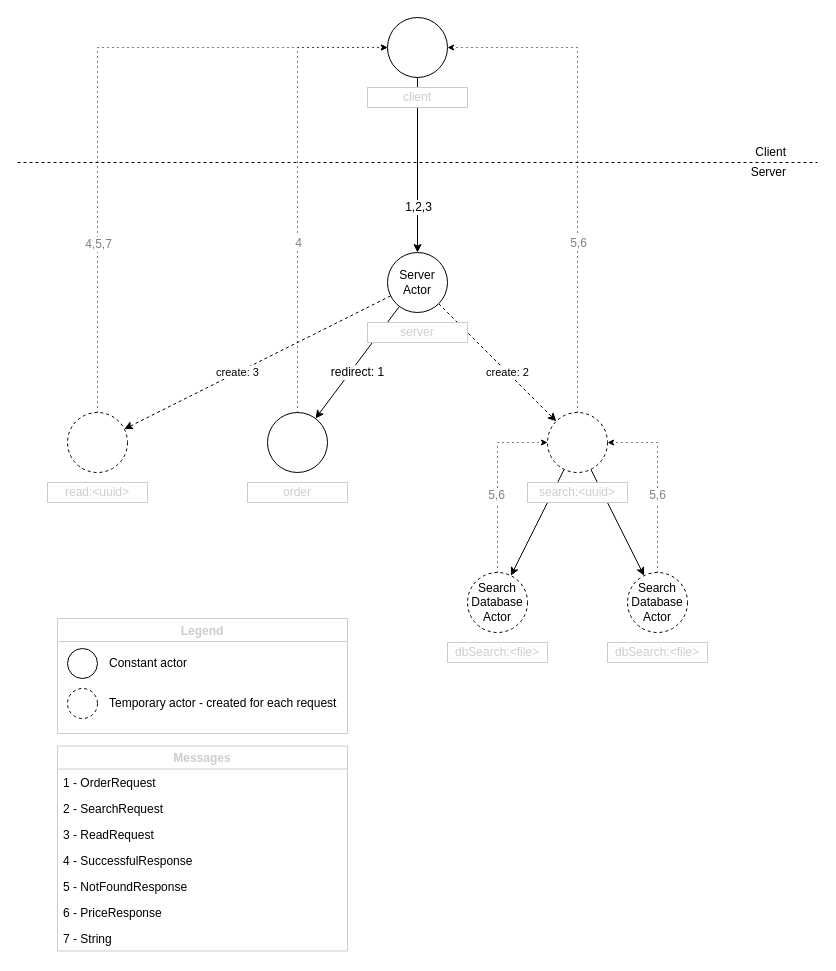
The diagram is 836 pixels wide and 971 high, and some of its shapes have lost their labels. The shapes that lost their labels are listed below. From the top down, each one's centre as x and y in pixels, then its label:
point (417, 47): Client Actor
point (97, 442): Read Actor
point (297, 442): Order Actor
point (577, 442): Search Actor
